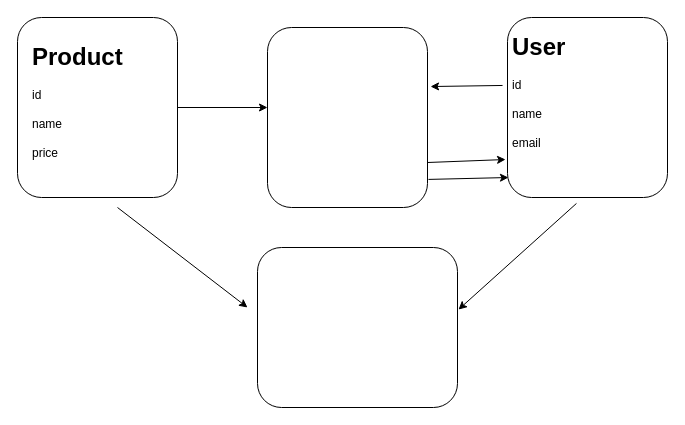
The diagram is 685 pixels wide and 425 high, and some of its shapes have lost their labels. The shapes that lost their labels are listed below. From the top down, each one's centre as x and y in pixels, then its label:
At (x=347, y=117): "Reviews id star_rating comment user_id product-id".
At (x=357, y=327): "User_product id user_id product_id".
